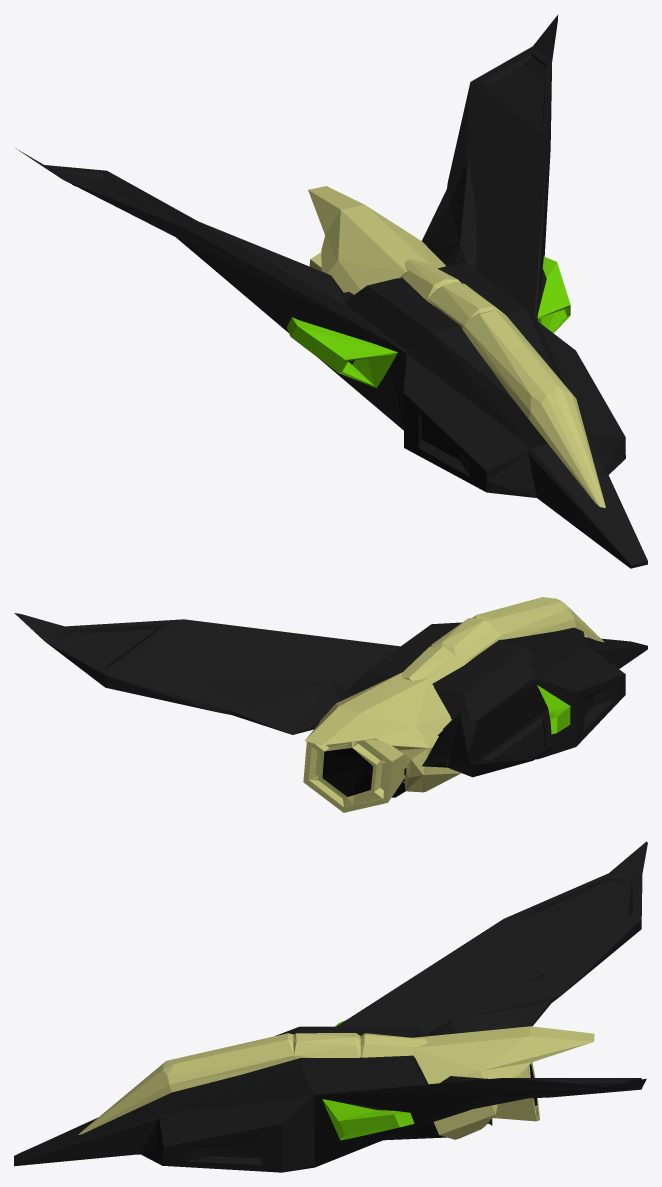
File: Ship01.fbx
The picture shows the model from 3 angles, top to bottom: view 1: azimuth 30°, elevation 25°; view 2: azimuth 150°, elevation 25°; view 3: azimuth 270°, elevation 25°; orthographic projection. The views are drawn at different scales.
Parts seen in each view (by area): view 1: Cube; view 2: Cube; view 3: Cube.
Boxes of the visible parts, x1,y1,x2,y2 form: Cube: (15, 14, 647, 568); Cube: (14, 597, 647, 812); Cube: (14, 841, 647, 1172).
Bounding box in the file's own units: 8.38 × 3.34 × 9.46.
